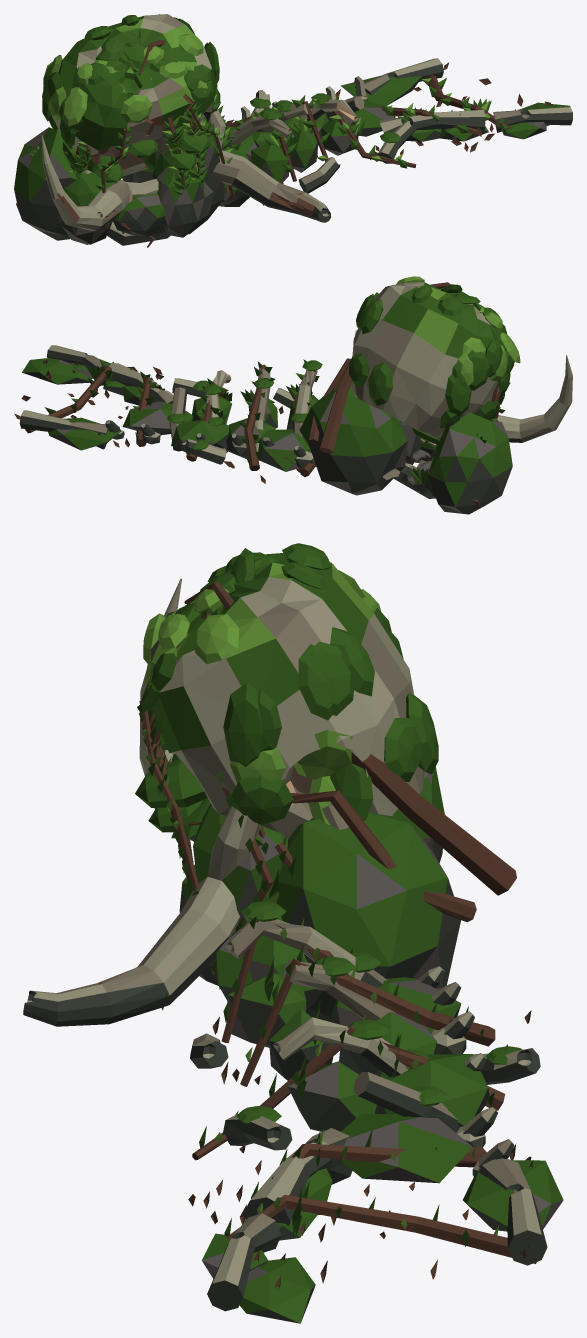
The model's file is forest-skull.glb.
3 views of the same model, one above another, from view 1: azimuth 30°, elevation 25°; view 2: azimuth 150°, elevation 25°; view 3: azimuth 270°, elevation 25° (orthographic). The views are drawn at different scales.
Visible parts, largest first — view 1: ForestSkull; view 2: ForestSkull; view 3: ForestSkull.
Boxes of the visible parts, <box> form: ForestSkull: <box>14,14,572,247</box>; ForestSkull: <box>14,276,572,514</box>; ForestSkull: <box>23,543,563,1323</box>.
Bounding box in the file's own units: 25.87 × 10.1 × 11.7.
1 material, 1 textured.
